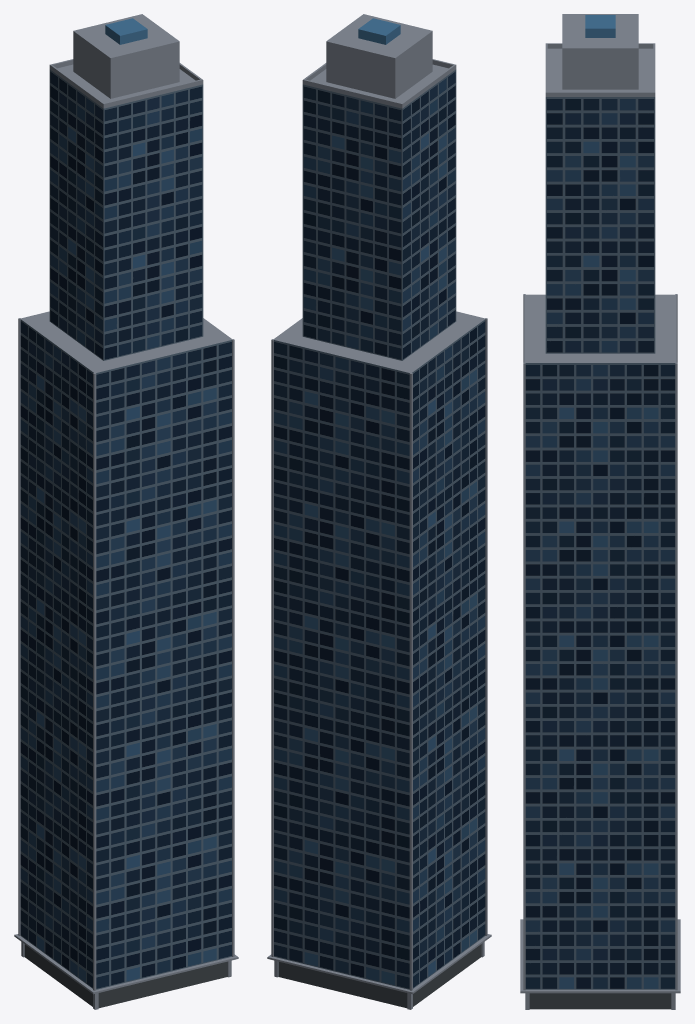
Rendered from predio_6.glb.
3 renders of one model, left to right at view 1: azimuth 30°, elevation 25°; view 2: azimuth 150°, elevation 25°; view 3: azimuth 270°, elevation 25°, orthographic.
Parts seen in each view (by area): view 1: fachada, con, ter, cx; view 2: fachada, con, ter, cx; view 3: fachada, con, ter, cx.
Boxes of the visible parts, x1,y1,x2,y2 form: fachada: (20,69,231,989); con: (14,14,238,1009); ter: (24,944,227,1008); cx: (105,18,147,44); fachada: (274,69,485,989); con: (267,14,491,1009); ter: (278,944,481,1008); cx: (358,18,400,44); fachada: (525,97,675,989); con: (520,14,680,1009); ter: (529,993,671,1009); cx: (585,15,615,37).
Bounding box in the file's own units: 33.6 × 208 × 31.6.
Materials: 4 (1 with a texture image).
